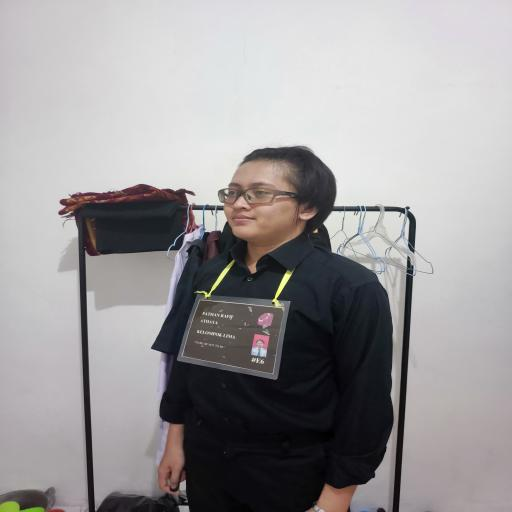celana_benar: (182, 437, 350, 512)
kemeja_salah: (153, 257, 407, 450)
nametag_ada: (179, 286, 298, 386)
